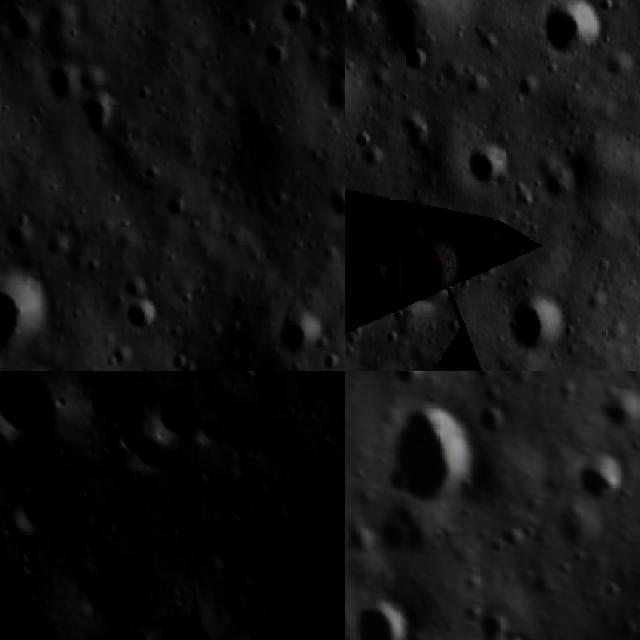crater: (377, 397, 483, 508), (391, 235, 473, 306), (0, 268, 53, 362), (0, 371, 62, 449), (117, 597, 220, 640), (535, 0, 602, 61), (508, 288, 570, 352), (138, 383, 207, 437), (374, 502, 435, 557), (571, 451, 629, 508), (349, 595, 414, 640), (269, 306, 326, 356), (463, 138, 516, 185), (592, 388, 640, 437), (78, 94, 118, 140), (43, 59, 83, 104), (0, 212, 38, 257), (3, 6, 40, 48), (121, 298, 162, 335), (42, 230, 78, 266), (277, 0, 314, 35), (258, 40, 292, 77), (468, 611, 509, 640), (12, 539, 42, 578), (110, 419, 142, 452), (222, 494, 250, 528), (164, 345, 196, 371), (234, 16, 259, 47), (329, 187, 345, 224), (600, 580, 621, 608), (238, 371, 273, 382)
